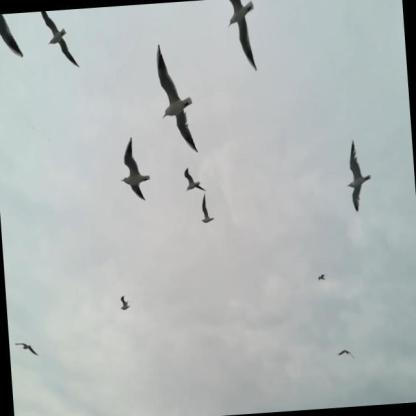bird: (154, 40, 200, 156), (219, 0, 261, 77), (114, 131, 152, 212), (36, 9, 80, 74), (338, 134, 373, 207), (181, 165, 207, 194), (14, 338, 40, 361), (198, 192, 215, 224), (336, 346, 357, 364), (118, 293, 133, 313), (314, 270, 327, 286)
